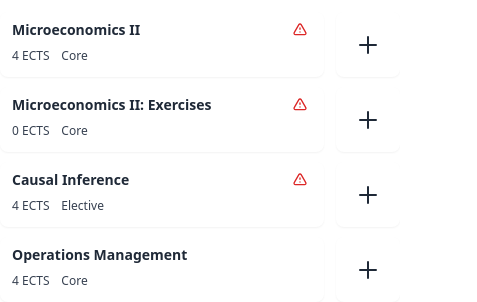
exam conflicts in the course list › shows the clash in the exam red of the dark tooltips
The width and height of the screenshot is (477, 302).
Hover over the 1st picture named "Exam clash with".
mouse_move(300, 30)  # box [292, 22, 308, 38]
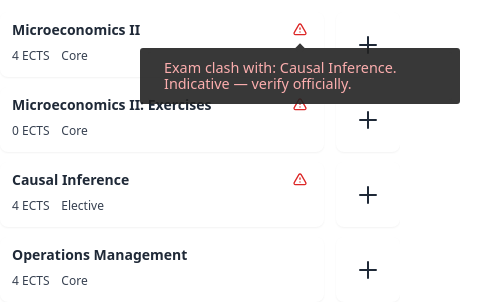
Expected: the tooltip reads "Exam clash with: Causal Inference. Indicative — verify officially.", [164, 58, 397, 93]
